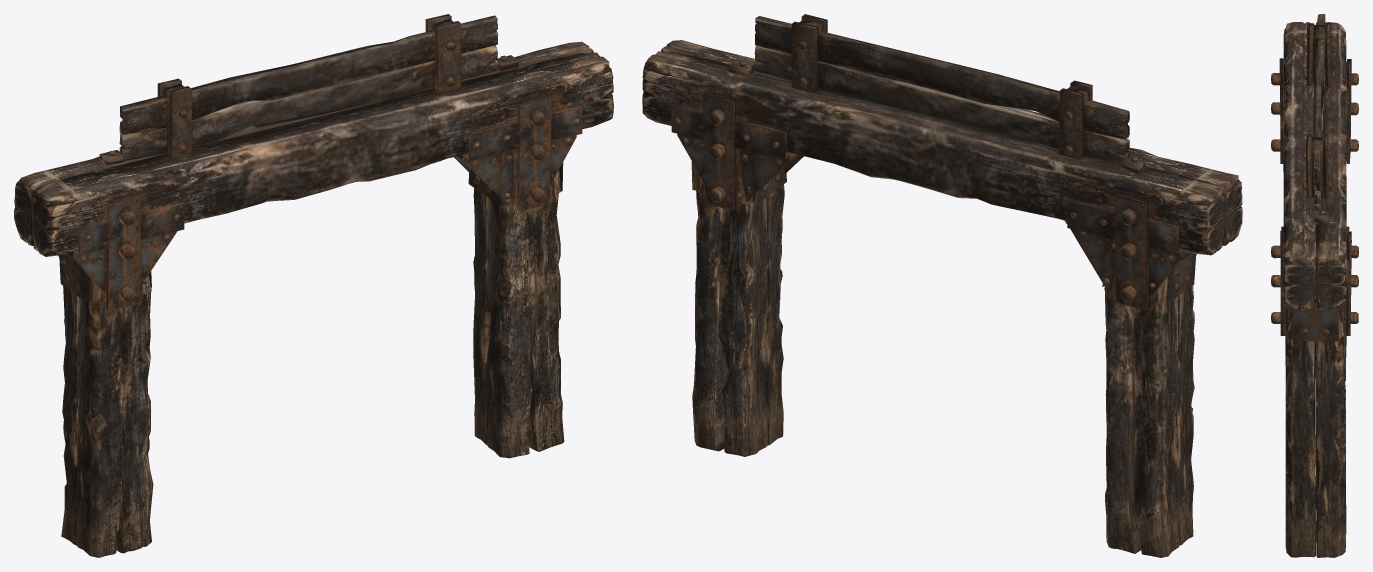
Rendered from reactor-timber-set.glb.
3 views of the same model, side by side, from view 1: azimuth 30°, elevation 25°; view 2: azimuth 150°, elevation 25°; view 3: azimuth 270°, elevation 25° (orthographic). The views are drawn at different scales.
Visible parts, largest first — view 1: reactor-timber-set; view 2: reactor-timber-set; view 3: reactor-timber-set.
Boxes of the visible parts, left/top/right/bottom form: reactor-timber-set: left=14, top=14, right=613, bottom=557; reactor-timber-set: left=642, top=14, right=1242, bottom=557; reactor-timber-set: left=1271, top=14, right=1358, bottom=557.
Bounding box in the file's own units: 3.4 × 2.52 × 0.5323.
1 material, 1 textured.
